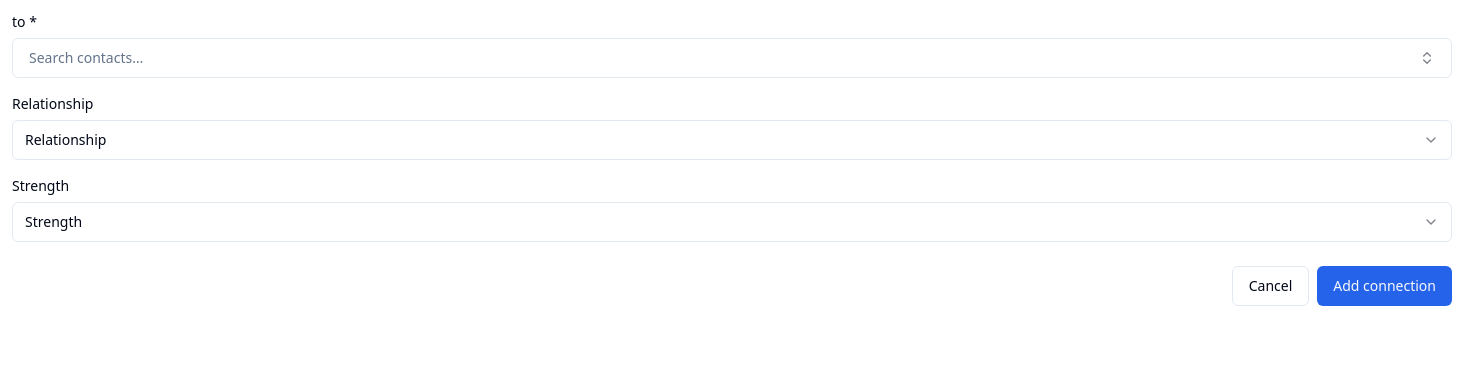
AddConnectionForm — kind select has all 6 CONNECTION_KINDS › lists all 6 connection kinds when the kind select is opened
Step 1. Click the dropdown with id "connection-kind-trigger" → click(66, 140), box [12,120,1452,160]
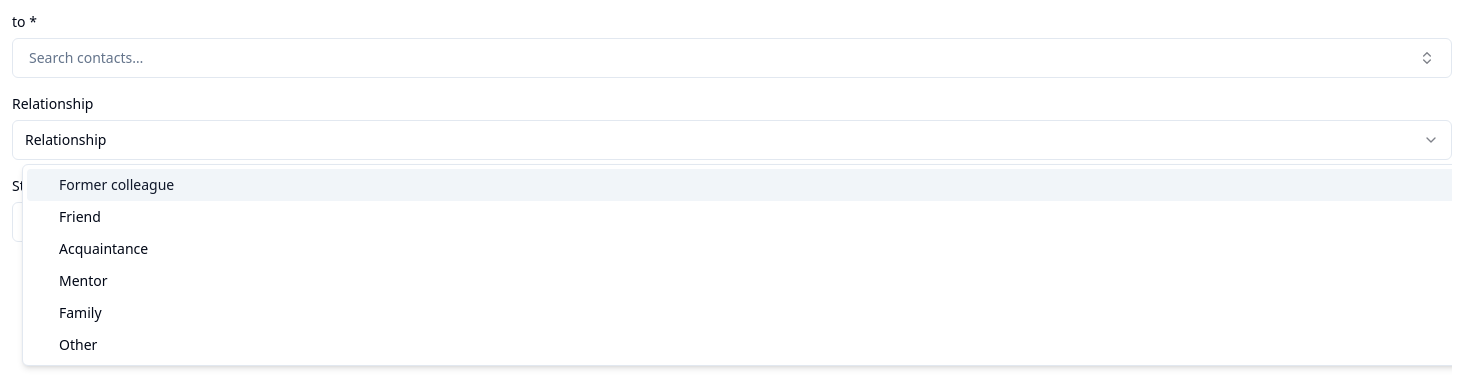
Result: the option "Friend" is shown at [59,207,101,226]
Result: the option "Acquaintance" is shown at [59,239,148,258]
Result: the option "Mentor" is shown at [59,271,108,290]
